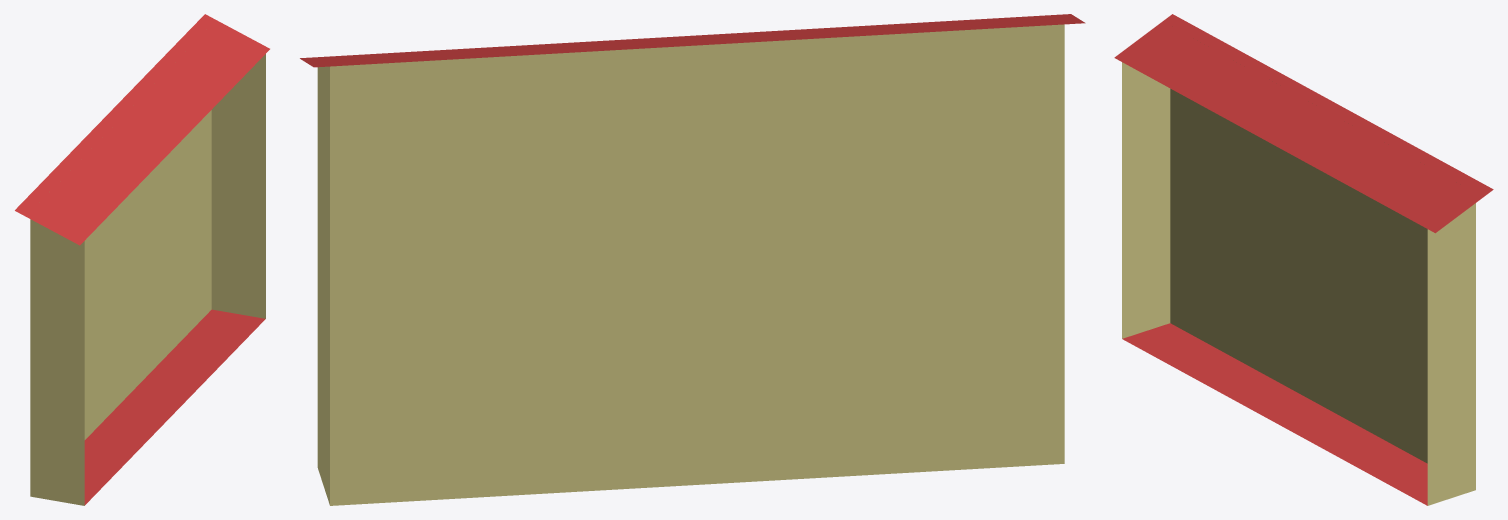
The picture shows the model from 3 angles, left to right: view 1: azimuth 30°, elevation 25°; view 2: azimuth 150°, elevation 25°; view 3: azimuth 270°, elevation 25°; orthographic projection. The views are drawn at different scales.
Bounding box in the file's own units: 9.04 × 7.45 × 6.53.
